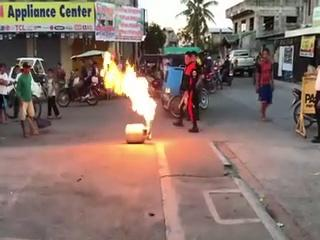Fire: (101, 54, 156, 127)
